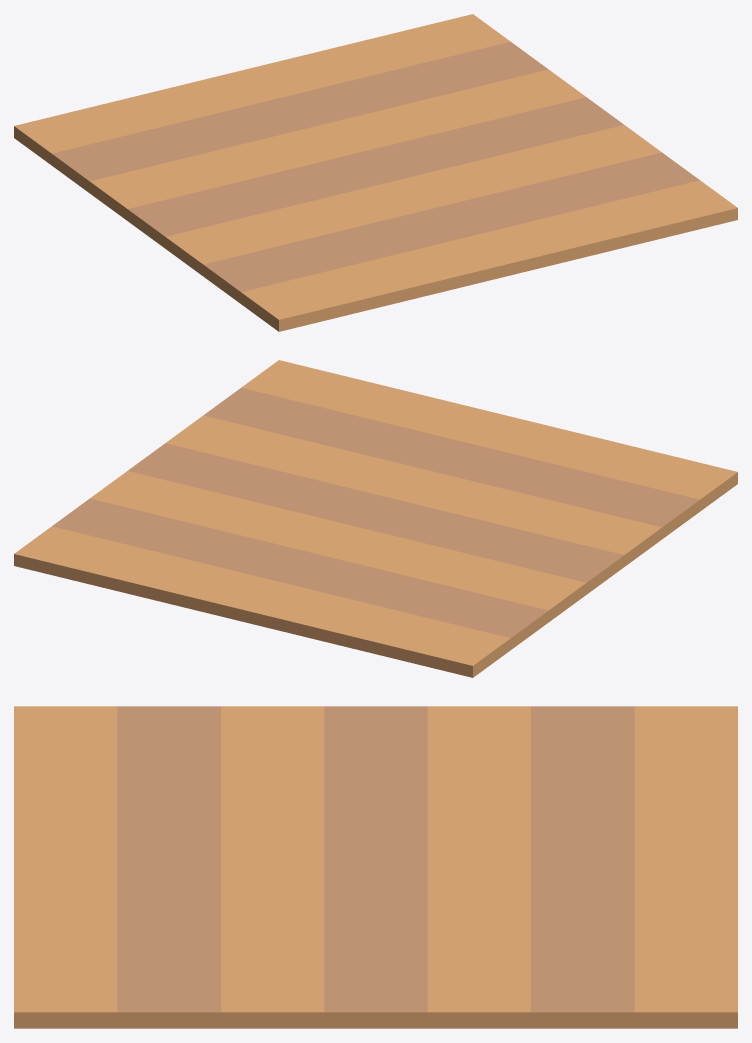
Rendered from KA_parkaient_2.fbx.
The picture shows the model from 3 angles, top to bottom: view 1: azimuth 30°, elevation 25°; view 2: azimuth 150°, elevation 25°; view 3: azimuth 270°, elevation 25°; orthographic projection. The views are drawn at different scales.
Parts seen in each view (by area): view 1: Object002; view 2: Object002; view 3: Object002.
Boxes of the visible parts, x1,y1,x2,y2 form: Object002: (14, 14, 737, 331); Object002: (14, 360, 737, 677); Object002: (14, 706, 737, 1028).
Size of the model in its own units: 78.74 by 1.97 by 78.74.
